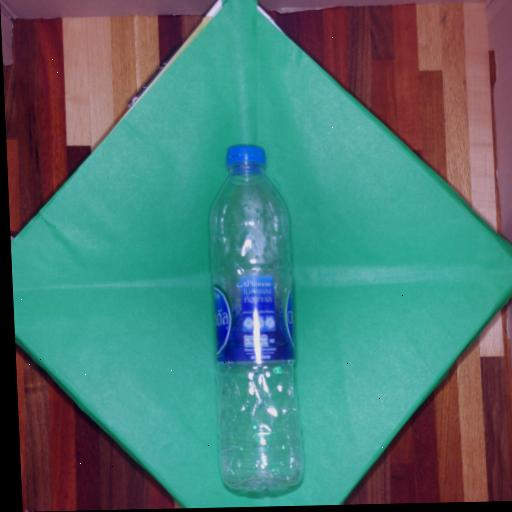bottle: (193, 126, 317, 505)
